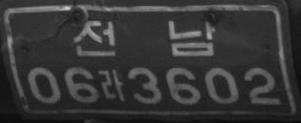0: (203, 65, 240, 106), (26, 65, 62, 105)
2: (243, 65, 282, 106)
3: (126, 65, 162, 105)
6: (63, 64, 101, 105), (164, 65, 201, 106)
라: (101, 67, 126, 103)
전남_D: (71, 18, 216, 58)
